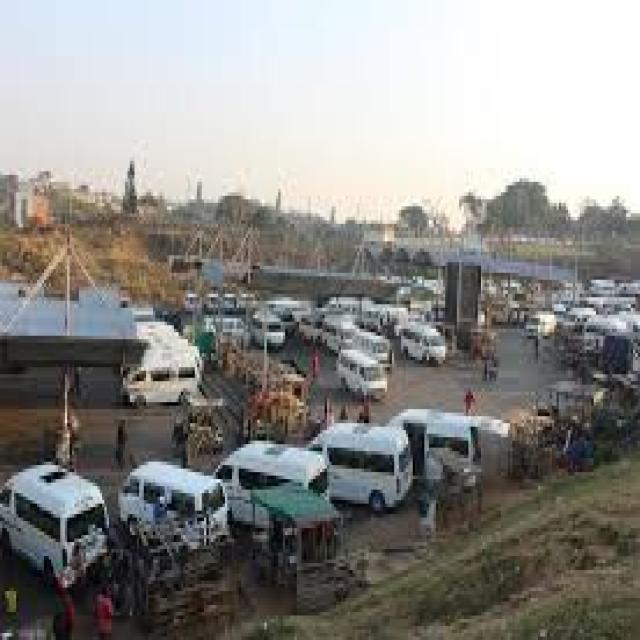MiniBus taxi: (2, 458, 114, 619), (214, 430, 338, 539), (118, 451, 230, 570), (304, 423, 415, 518), (392, 412, 489, 497), (114, 353, 204, 413), (336, 336, 387, 409)
